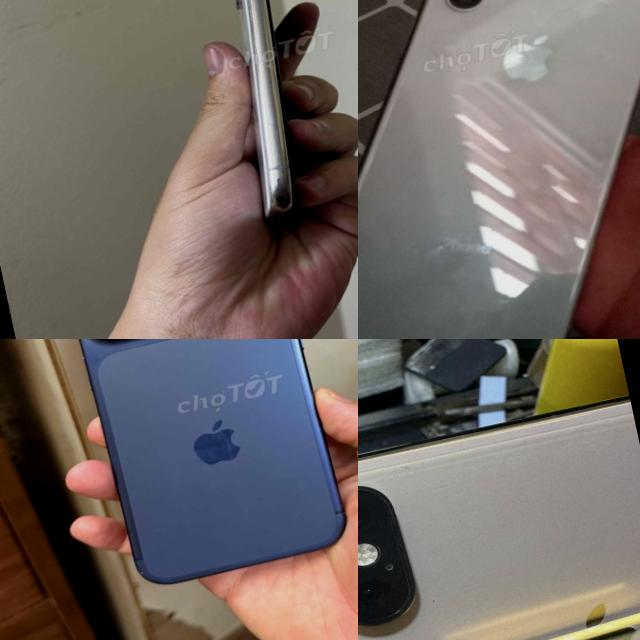gen_17: (14, 339, 358, 623)
gen_x_xs: (358, 0, 640, 339), (358, 394, 640, 640), (235, 0, 294, 220)
scratch: (264, 168, 298, 204), (398, 460, 411, 470), (429, 598, 436, 604)
